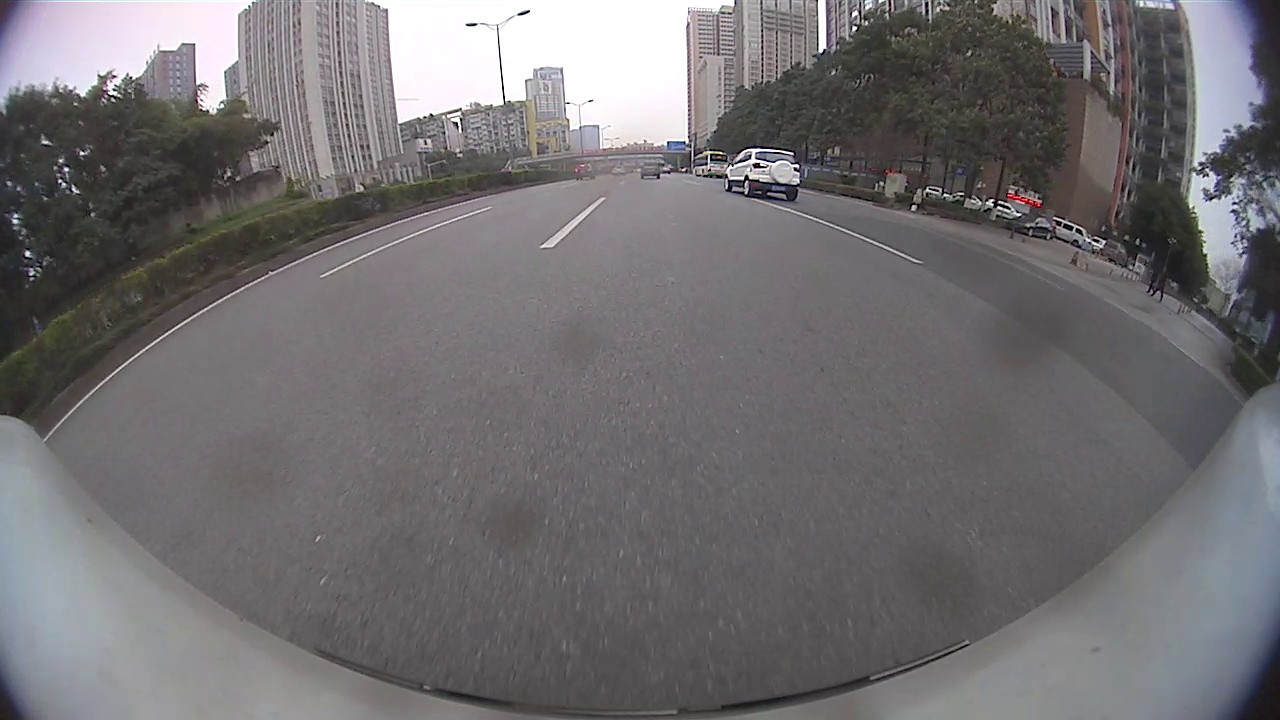bus: (692, 151, 730, 179)
car: (723, 148, 802, 201), (639, 161, 662, 179), (573, 163, 594, 180)
front: (723, 179, 735, 192)
rear: (743, 178, 756, 197)
